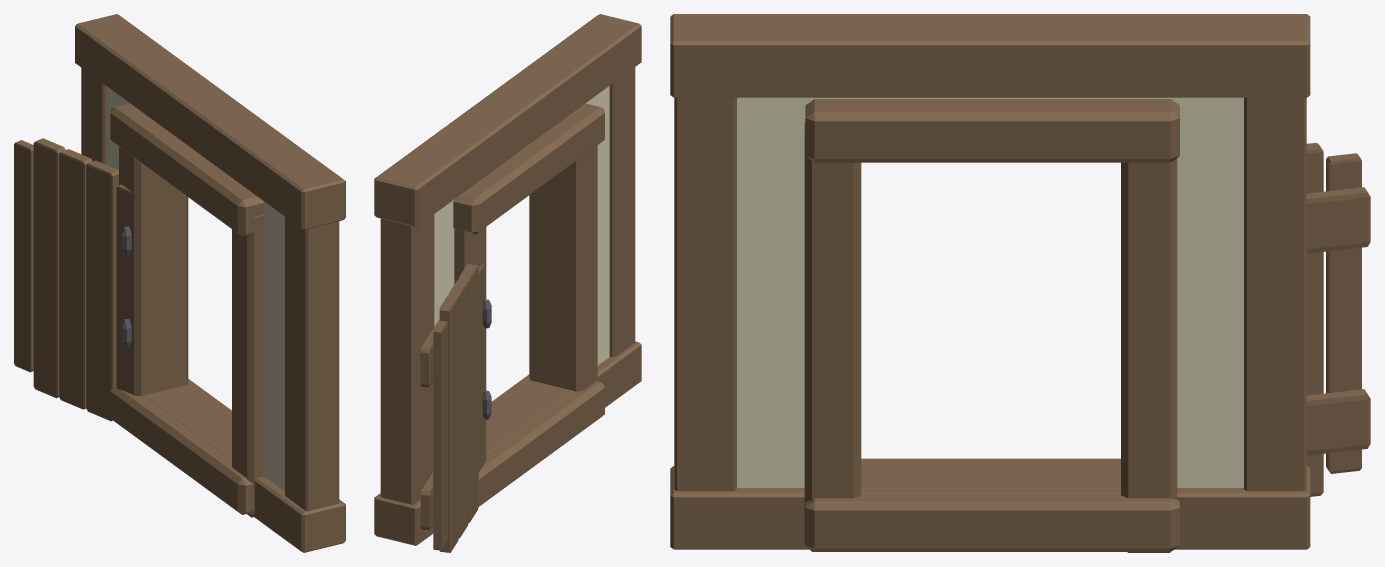
The model's file is Door 1.fbx.
3 renders of one model, left to right at view 1: azimuth 30°, elevation 25°; view 2: azimuth 150°, elevation 25°; view 3: azimuth 270°, elevation 25°, orthographic. The views are drawn at different scales.
Parts seen in each view (by area): view 1: Plank.170, Plank.167, Plank.180, Plank.179, Plank.184, Plank.182, Plank.185, Plank.186, Plank.181, Plank.169, Cube.004, Plank.187 (+2 smaller); view 2: Plank.170, Plank.179, Plank.168, Plank.167, Plank.182, Plank.169, Plank.181, Cube.004, Plank.187, Plank.186, Plank.184, Plank.185 (+4 smaller); view 3: Plank.170, Cube.004, Plank.167, Plank.168, Plank.182, Plank.169, Plank.181, Plank.179, Plank.180, Plank.187, Plank.186, Plank.188 (+1 smaller).
Part boxes in pixels (x1,y1,x2,y2): Plank.170: (75, 14, 345, 229); Plank.167: (285, 217, 339, 510); Plank.180: (119, 147, 188, 396); Plank.179: (232, 215, 264, 517); Plank.184: (86, 160, 118, 421); Plank.182: (110, 103, 263, 236); Plank.185: (59, 149, 92, 409); Plank.186: (33, 138, 65, 398); Plank.181: (110, 379, 253, 514); Plank.169: (144, 386, 345, 552); Cube.004: (107, 87, 284, 491); Plank.187: (14, 140, 33, 372); Plank.170: (374, 14, 641, 226); Plank.179: (529, 145, 597, 391); Plank.168: (380, 214, 434, 504); Plank.167: (609, 67, 635, 357); Plank.182: (453, 103, 604, 234); Plank.169: (374, 341, 641, 545); Plank.181: (478, 374, 604, 506); Cube.004: (434, 86, 609, 365); Plank.187: (433, 320, 447, 550); Plank.186: (439, 295, 458, 552); Plank.184: (458, 264, 478, 522); Plank.185: (449, 280, 468, 538); Plank.170: (670, 14, 1310, 97); Cube.004: (737, 97, 1243, 487); Plank.167: (674, 97, 736, 490); Plank.168: (1244, 97, 1306, 490); Plank.182: (805, 99, 1179, 162); Plank.169: (670, 466, 1310, 549); Plank.181: (805, 458, 1179, 551); Plank.179: (804, 123, 861, 551); Plank.180: (1121, 158, 1177, 552); Plank.187: (1326, 153, 1361, 473); Plank.186: (1306, 142, 1323, 496); Plank.188: (1306, 187, 1370, 253).
Bounding box in the file's own units: 113 × 395 × 492.
